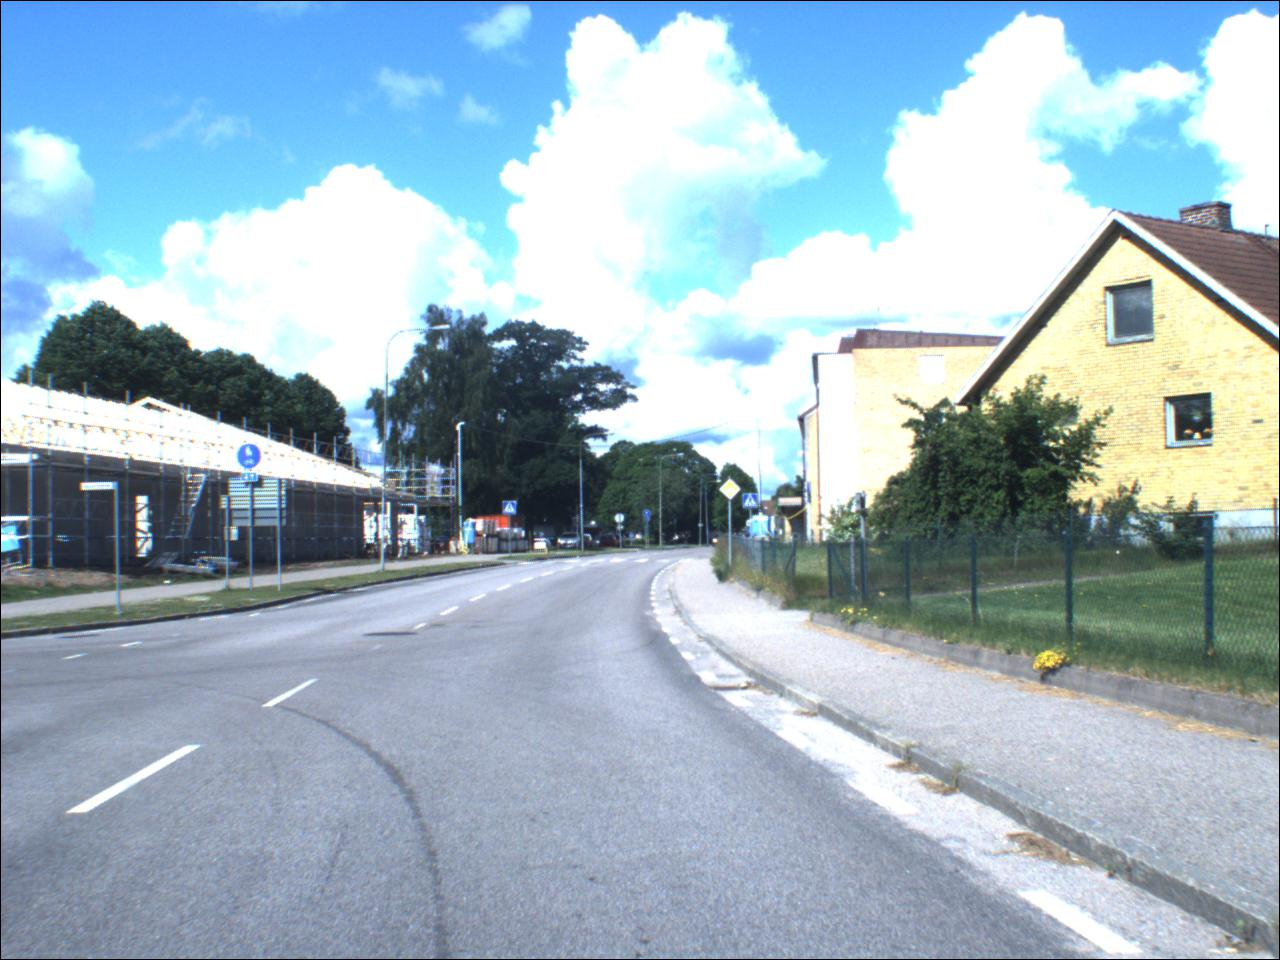PEDESTRIAN_CROSSING: (744, 495, 761, 512), (504, 502, 520, 517)
PRIORITY_ROAD: (721, 479, 743, 503)
